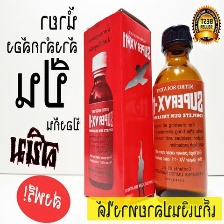book: (81, 6, 155, 210)
cleaning_solution: (151, 23, 211, 209)
